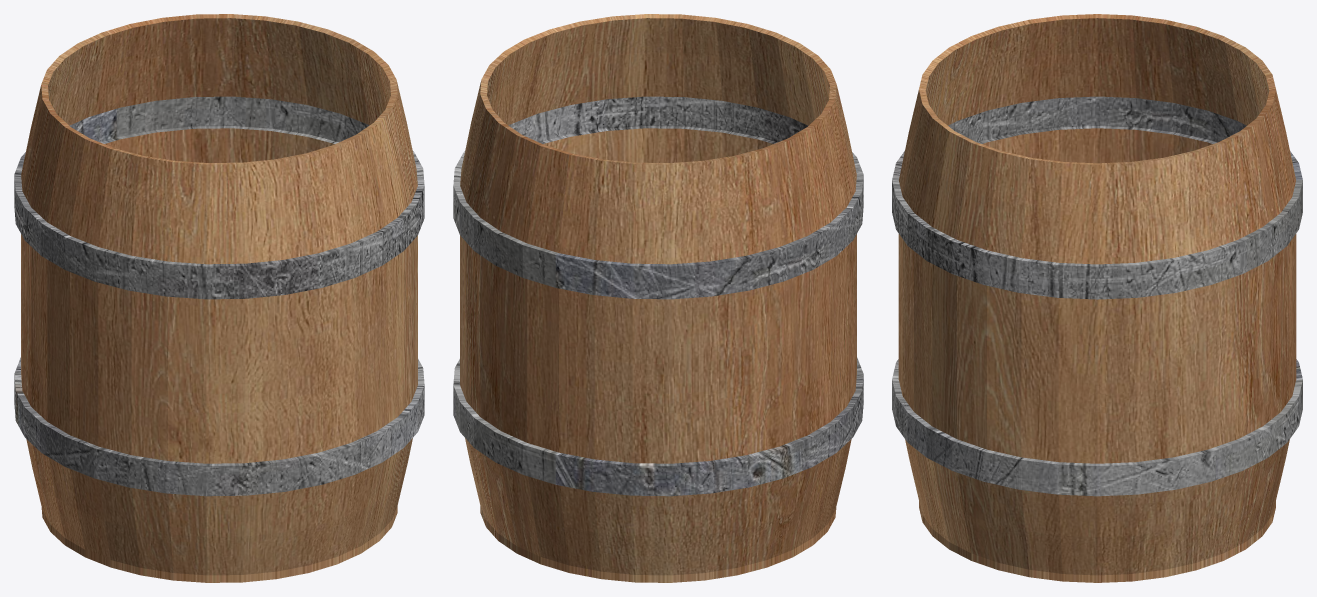
File: barrel2.fbx
3 renders of one model, left to right at view 1: azimuth 30°, elevation 25°; view 2: azimuth 150°, elevation 25°; view 3: azimuth 270°, elevation 25°, orthographic.
Parts seen in each view (by area): view 1: Cylinder.001; view 2: Cylinder.001; view 3: Cylinder.001.
Part boxes in pixels (x1,y1,x2,y2): Cylinder.001: [14, 14, 424, 582]; Cylinder.001: [453, 14, 863, 582]; Cylinder.001: [892, 14, 1302, 582].
Size of the model in its own units: 359 by 404 by 359.
